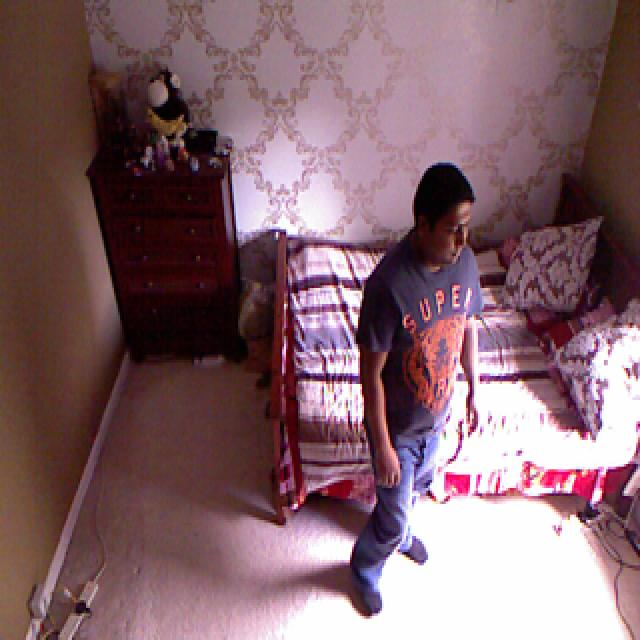standing: (345, 165, 482, 616)
